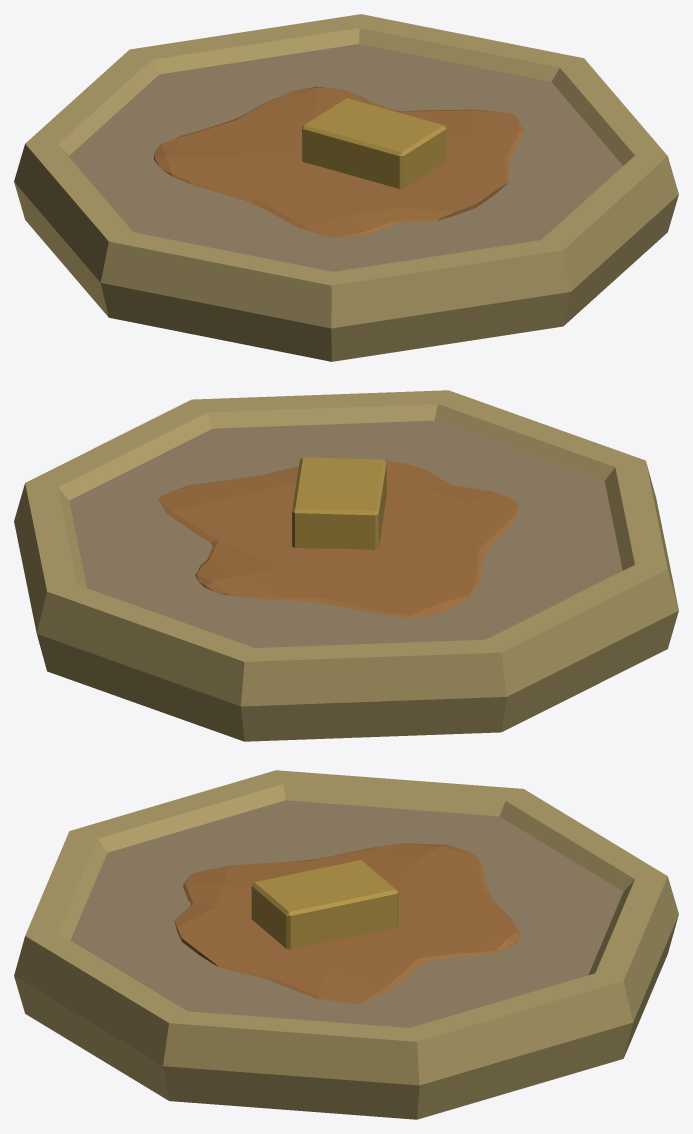
File: Pancake.glb
3 views of the same model, one above another, from view 1: azimuth 30°, elevation 25°; view 2: azimuth 150°, elevation 25°; view 3: azimuth 270°, elevation 25° (orthographic). The views are drawn at different scales.
Parts seen in each view (by area): view 1: Pancake; view 2: Pancake; view 3: Pancake.
Boxes of the visible parts, x1,y1,x2,y2 form: Pancake: (14, 14, 678, 361); Pancake: (14, 390, 678, 741); Pancake: (14, 770, 678, 1119).
Bounding box in the file's own units: 0.2452 × 0.0434 × 0.2452.
